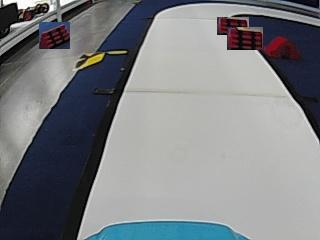bridge: (265, 34, 299, 59)
